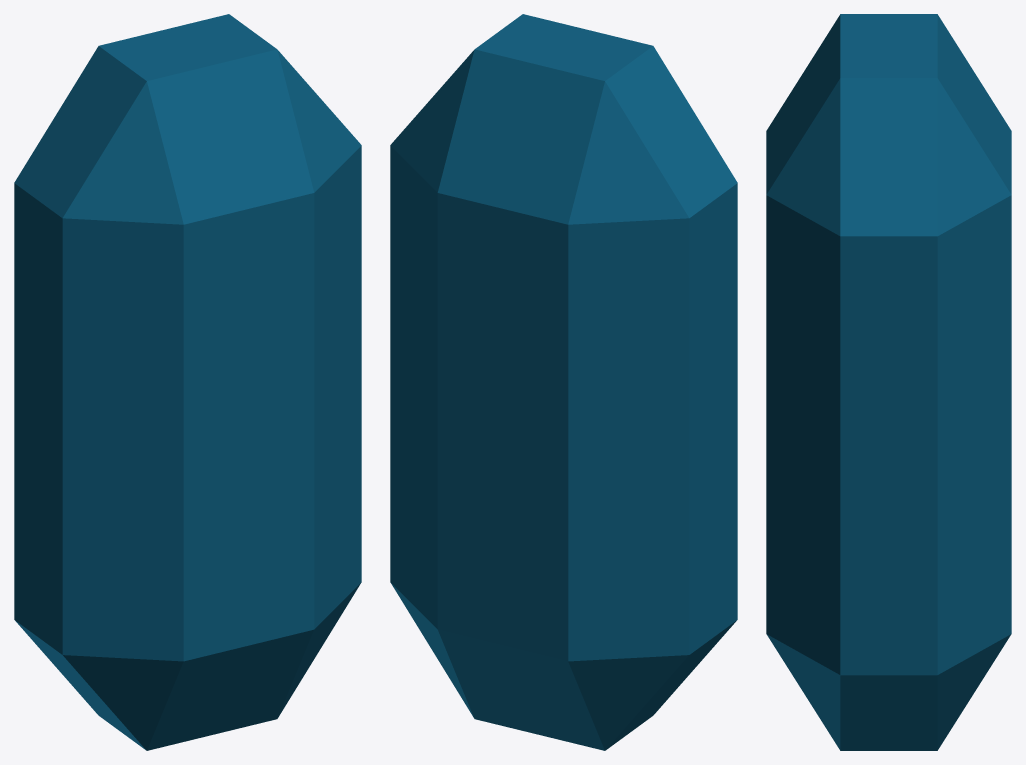
The model's file is gem-blue.obj.
3 renders of one model, left to right at view 1: azimuth 30°, elevation 25°; view 2: azimuth 150°, elevation 25°; view 3: azimuth 270°, elevation 25°, orthographic.
Visible parts, largest first — view 1: Gem_Blue_Cube.280; view 2: Gem_Blue_Cube.280; view 3: Gem_Blue_Cube.280.
Part boxes in pixels (x1,y1,x2,y2): Gem_Blue_Cube.280: [14, 14, 361, 750]; Gem_Blue_Cube.280: [390, 14, 737, 750]; Gem_Blue_Cube.280: [766, 14, 1011, 750].
Bounding box in the file's own units: 0.9863 × 2.11 × 0.697.
